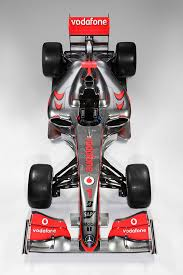FormulaOneCar: (17, 11, 160, 262)
